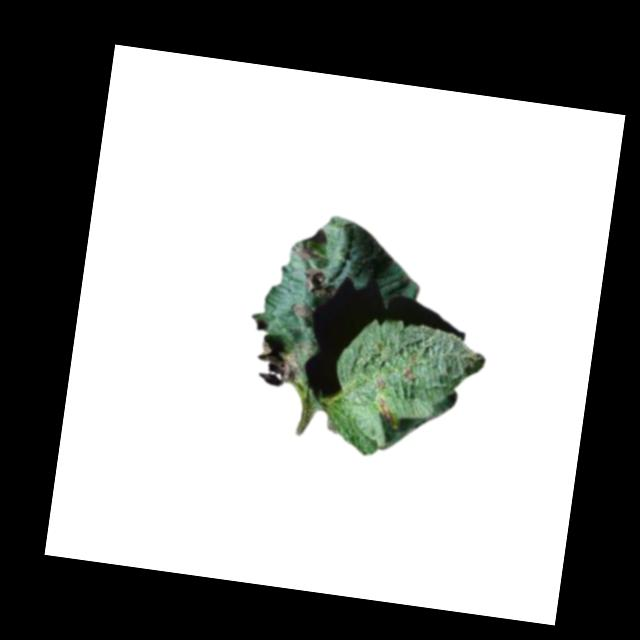Early_blight: (253, 332, 307, 390), (302, 267, 338, 299), (375, 397, 398, 425), (290, 300, 314, 318), (294, 243, 318, 260), (375, 376, 388, 392), (405, 367, 414, 378)
